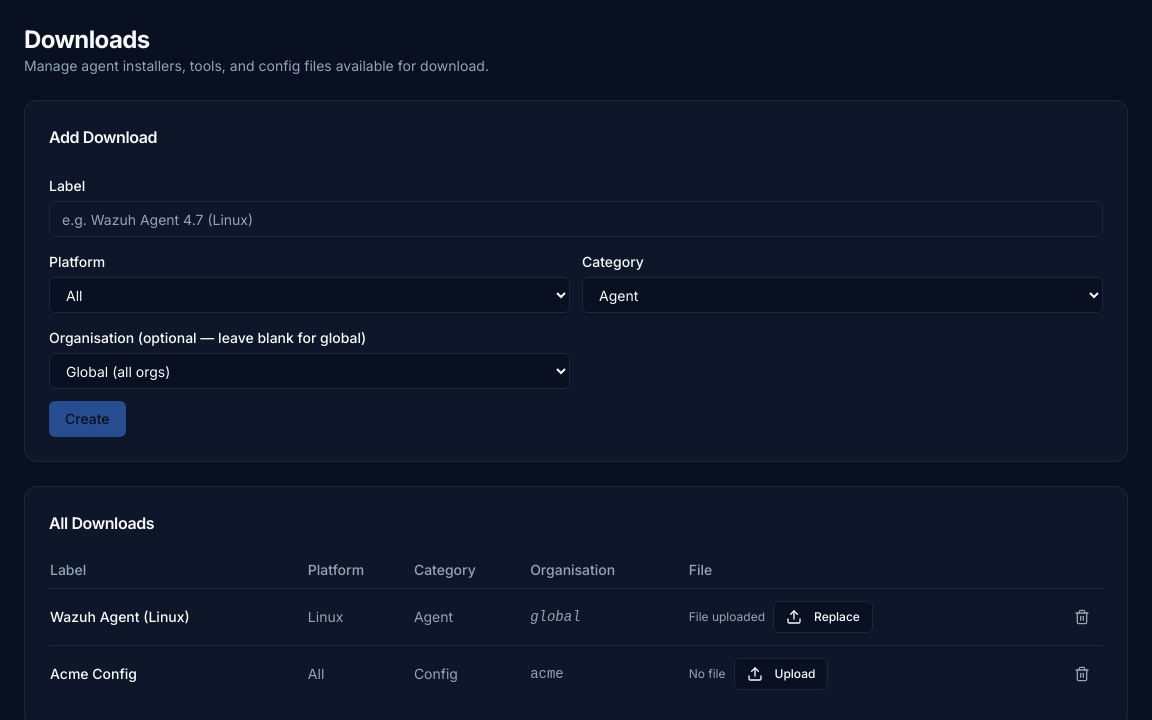
Test: DownloadManagement › adds newly created download to the list
Type "New Tool" into the field labelled "Label" at point(576, 219), box [49,201,1103,237]
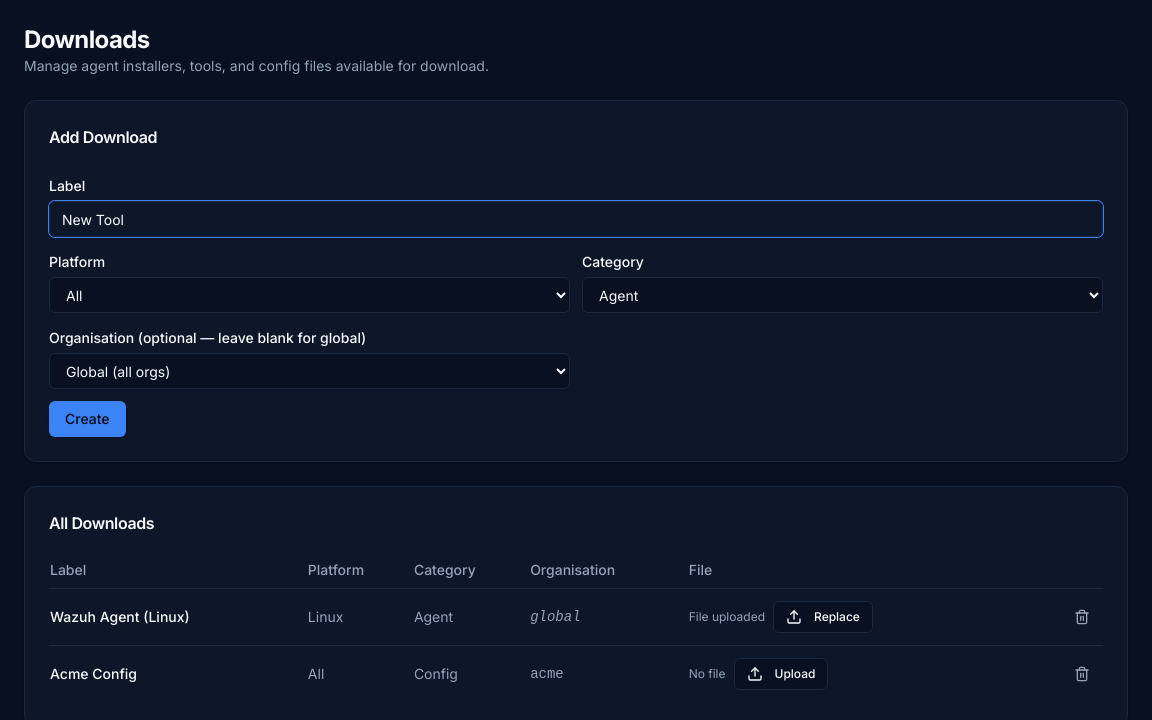
Click the button "Create" at point(87, 419), box [49,401,126,437]
(page scrolled)
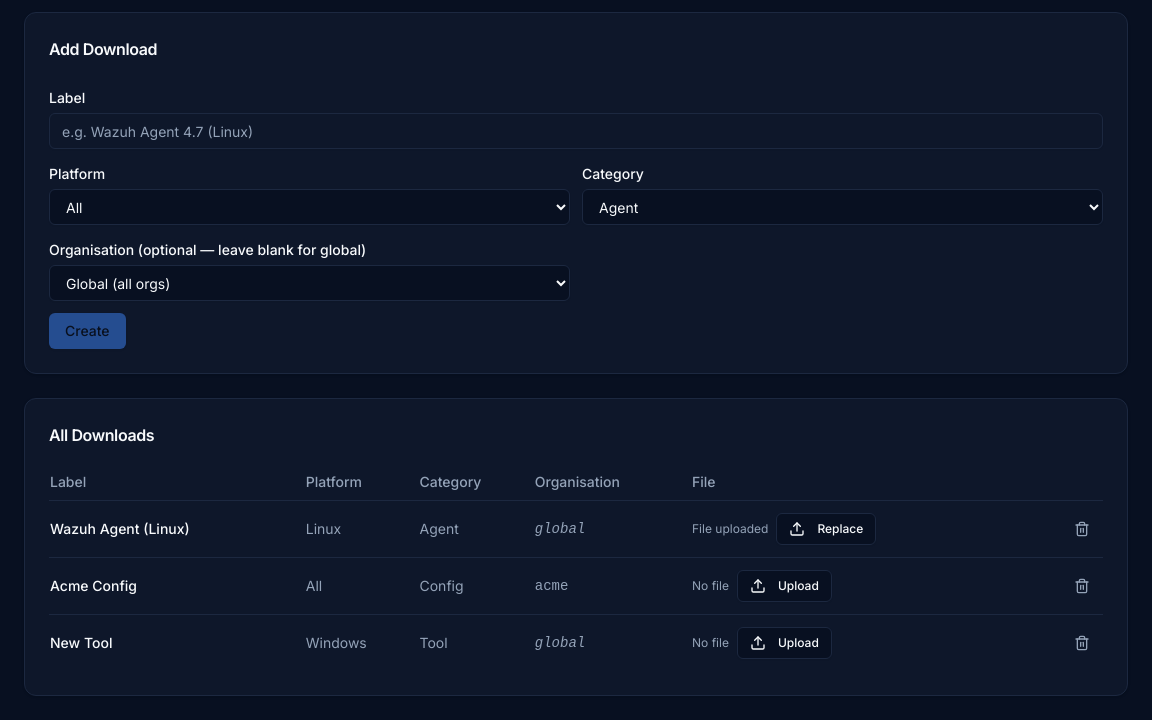
Now the text "New Tool" is shown, box [49,614,305,671]
